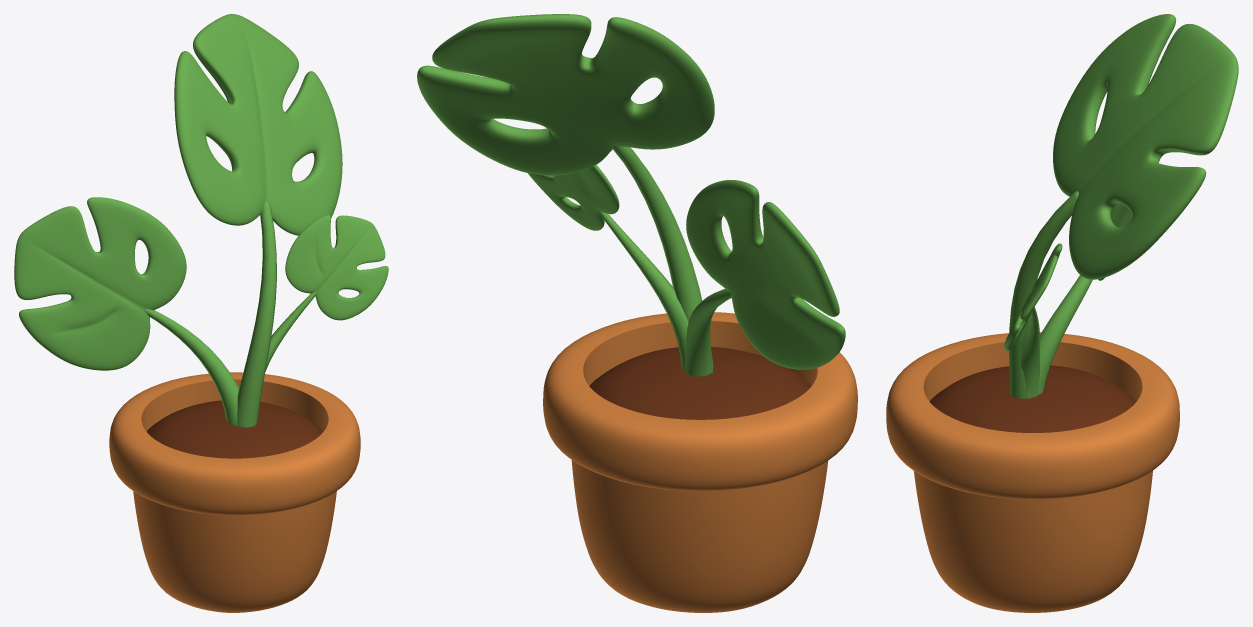
File: plant.glb
The picture shows the model from 3 angles, left to right: view 1: azimuth 30°, elevation 25°; view 2: azimuth 150°, elevation 25°; view 3: azimuth 270°, elevation 25°; orthographic projection. The views are drawn at different scales.
Parts seen in each view (by area): view 1: plant; view 2: plant; view 3: plant.
Boxes of the visible parts, <box> form: plant: <box>14,14,388,612</box>; plant: <box>417,14,857,612</box>; plant: <box>886,14,1238,612</box>.
Size of what is drawn, in the model's own units: 3.5 by 5.12 by 2.82.
